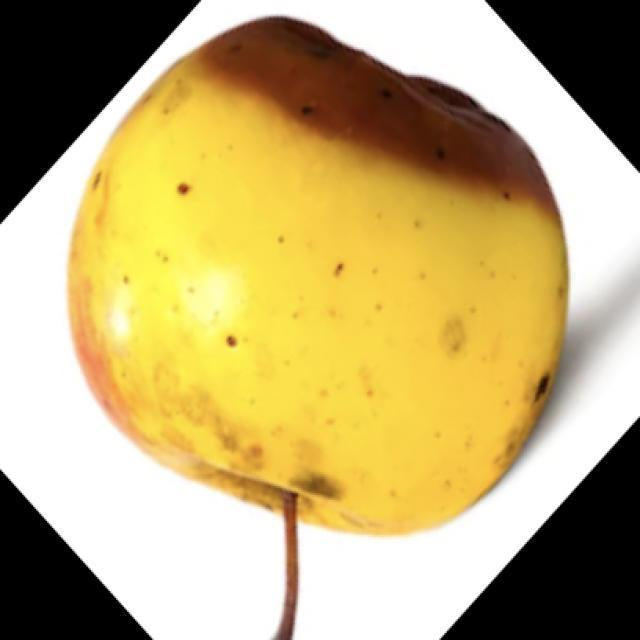Rotten: (93, 31, 577, 542)
